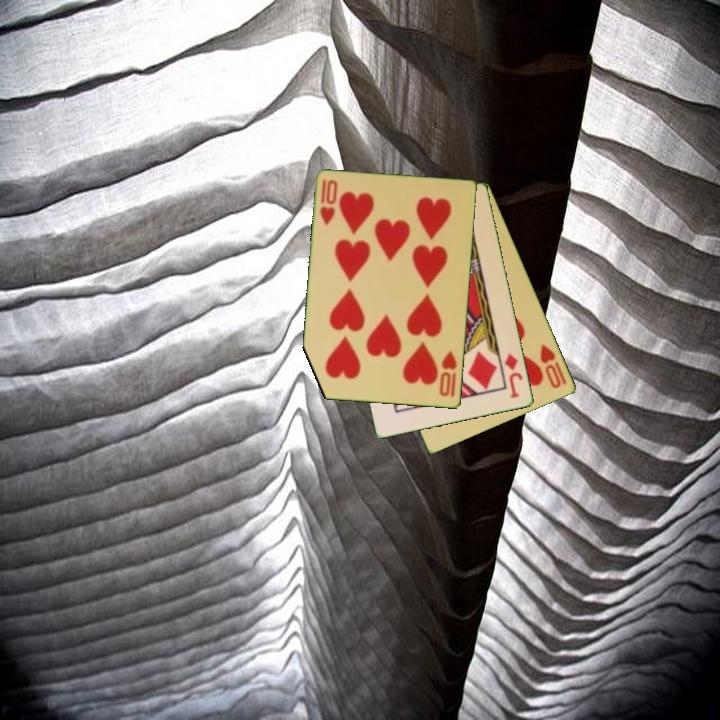10h: (537, 341, 570, 392), (436, 347, 460, 400), (317, 176, 340, 229)
Jd: (501, 349, 526, 401)
